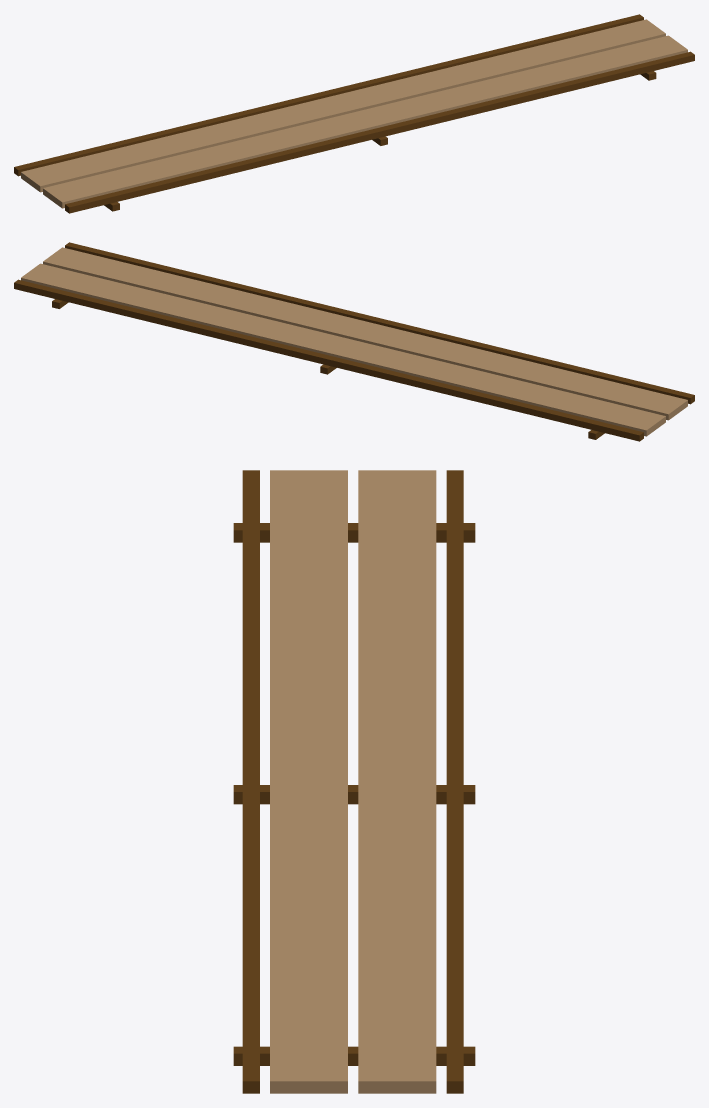
File: plank_3.fbx
3 renders of one model, top to bottom at view 1: azimuth 30°, elevation 25°; view 2: azimuth 150°, elevation 25°; view 3: azimuth 270°, elevation 25°, orthographic. The views are drawn at different scales.
Visible parts, largest first — view 1: plank_3; view 2: plank_3; view 3: plank_3.
Part boxes in pixels (x1=…): plank_3: x1=14, y1=14, x2=694, y2=213; plank_3: x1=14, y1=242, x2=694, y2=441; plank_3: x1=233, y1=470, x2=475, y2=1093.
Bounding box in the file's own units: 1406 × 26.85 × 235.
1 material, 1 textured.
